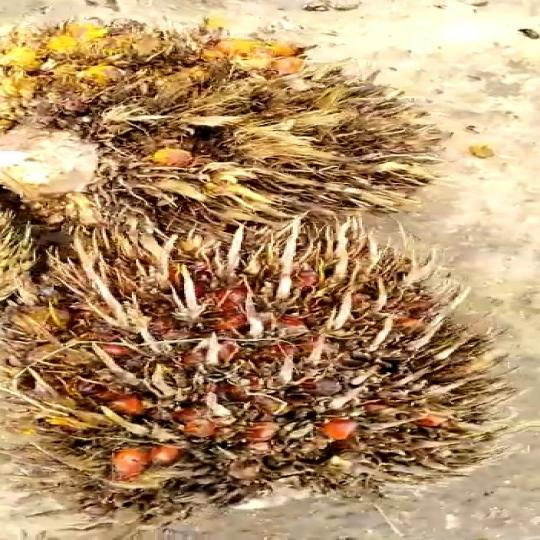terlalu masak: (0, 205, 540, 540), (0, 17, 439, 228)
